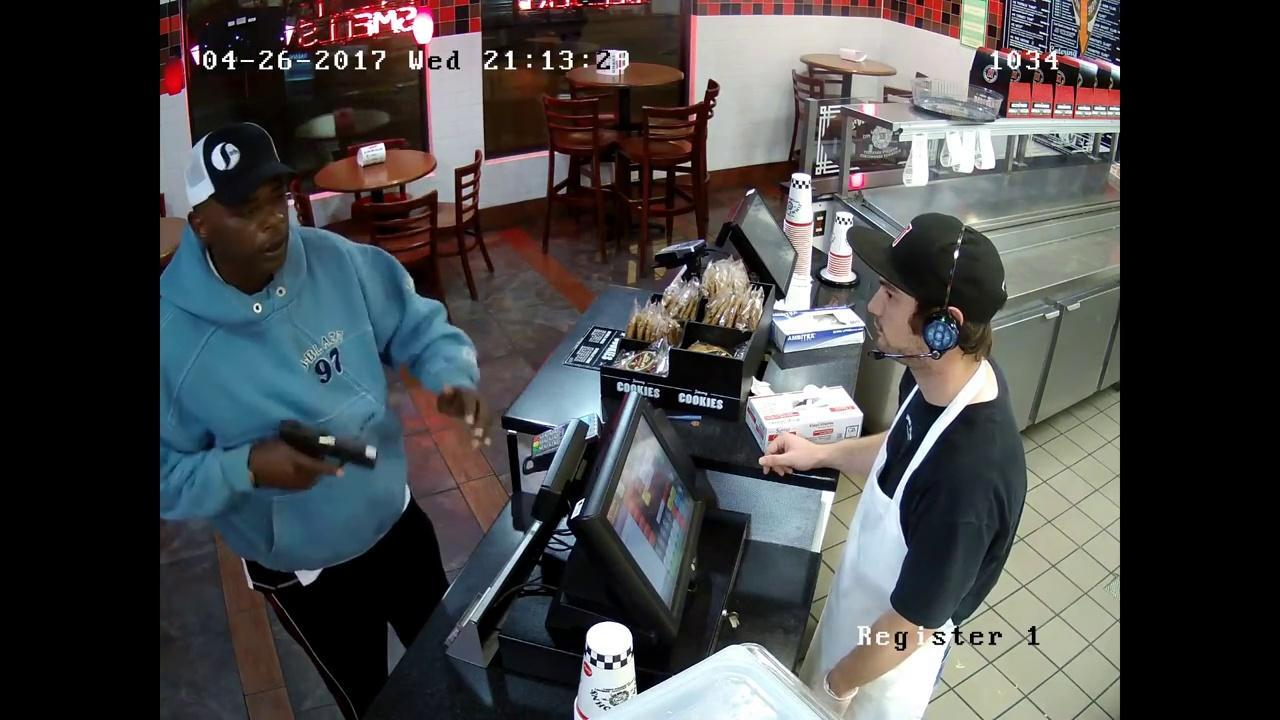Guns: (239, 401, 399, 497)
